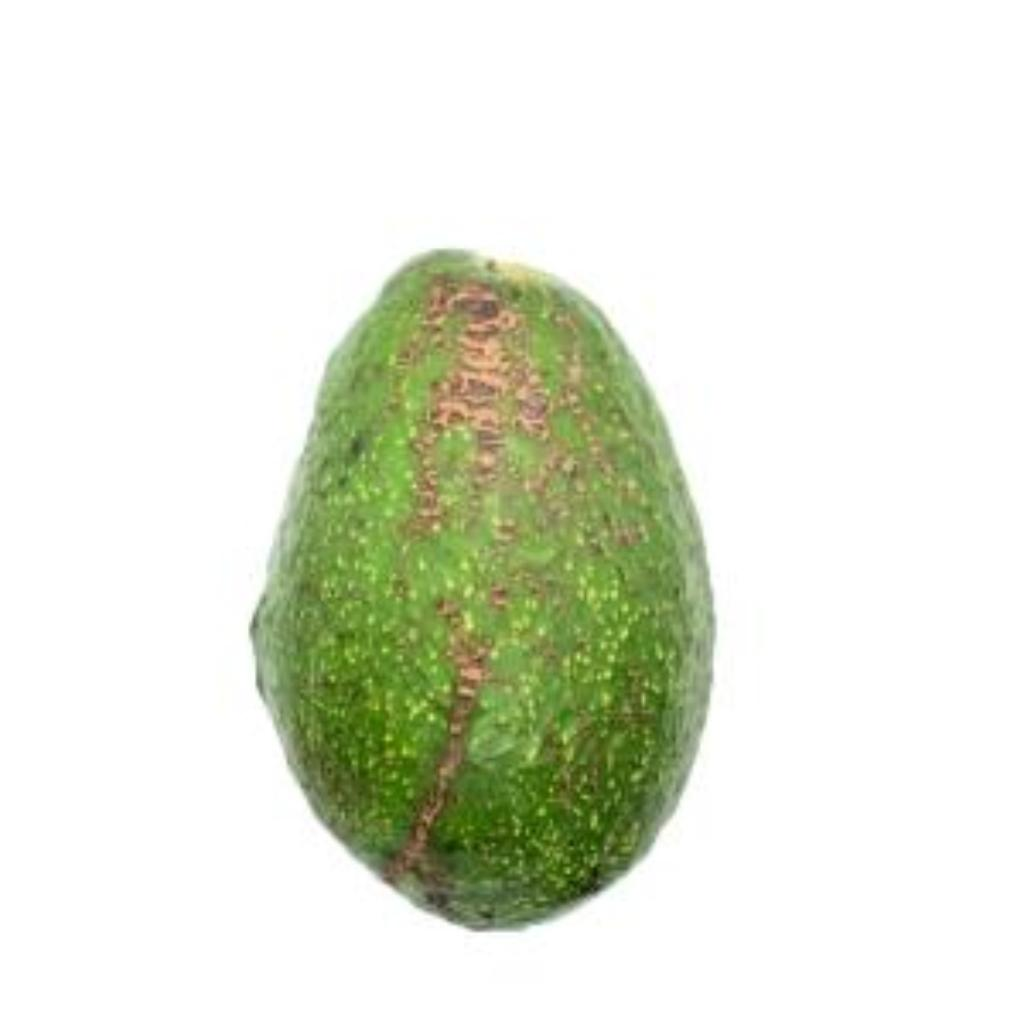cercospora: (237, 238, 729, 932)
